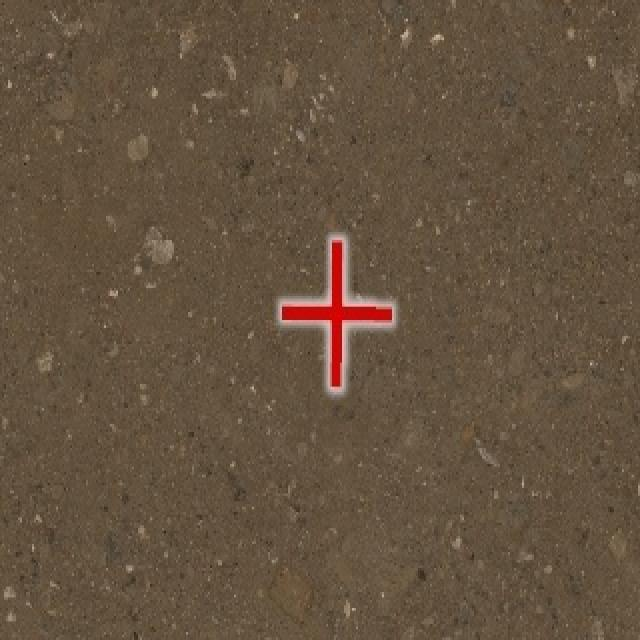x_marker: (281, 239, 391, 388)
